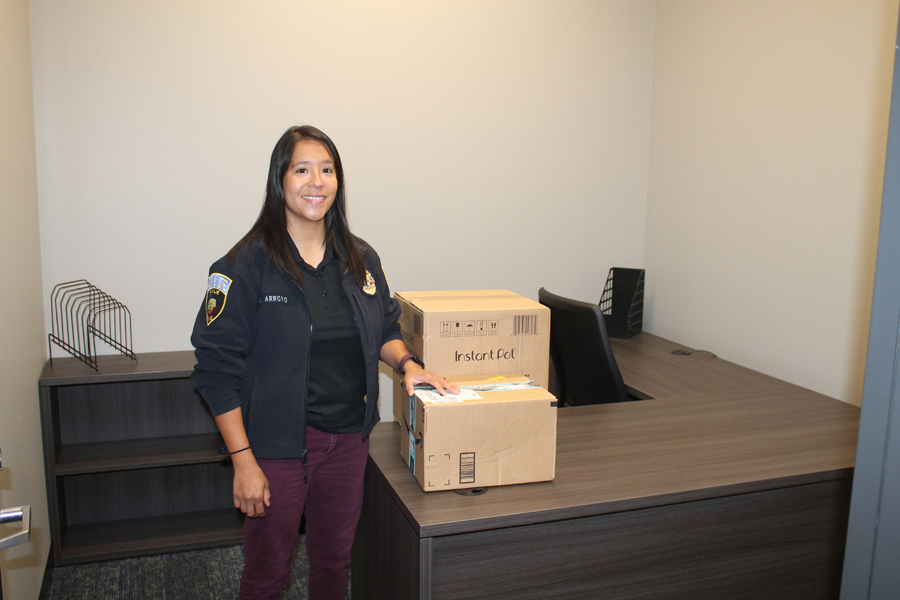package: (398, 291, 560, 417), (384, 379, 561, 494)
person: (197, 114, 402, 599)
